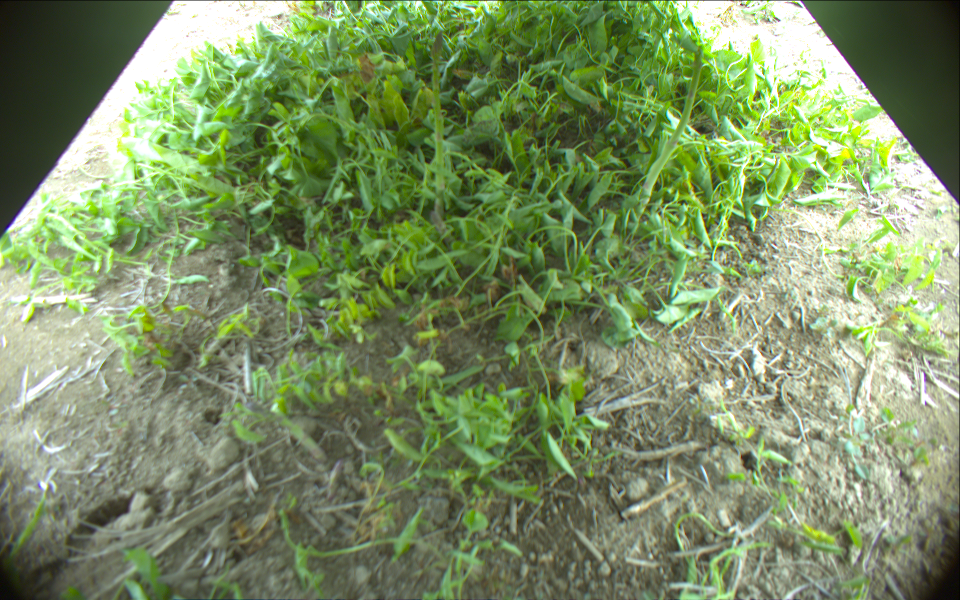aspa: (638, 45, 704, 205), (431, 29, 446, 220)
